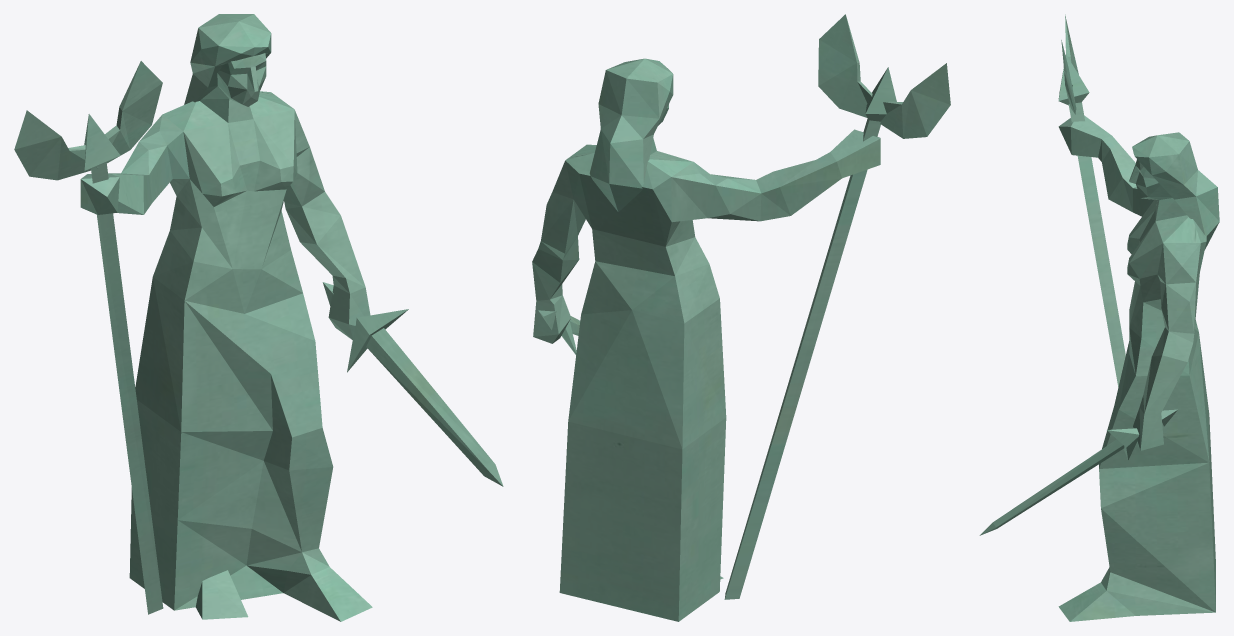
The model's file is athena.obj.
The picture shows the model from 3 angles, left to right: view 1: azimuth 30°, elevation 25°; view 2: azimuth 150°, elevation 25°; view 3: azimuth 270°, elevation 25°; orthographic projection. The views are drawn at different scales.
Parts seen in each view (by area): view 1: athena; view 2: athena; view 3: athena.
Boxes of the visible parts, left/top/right/bottom form: athena: left=14, top=14, right=503, bottom=621; athena: left=532, top=14, right=950, bottom=621; athena: left=979, top=14, right=1219, bottom=621.
Size of the model in its own units: 7.32 by 9.85 by 4.38.
